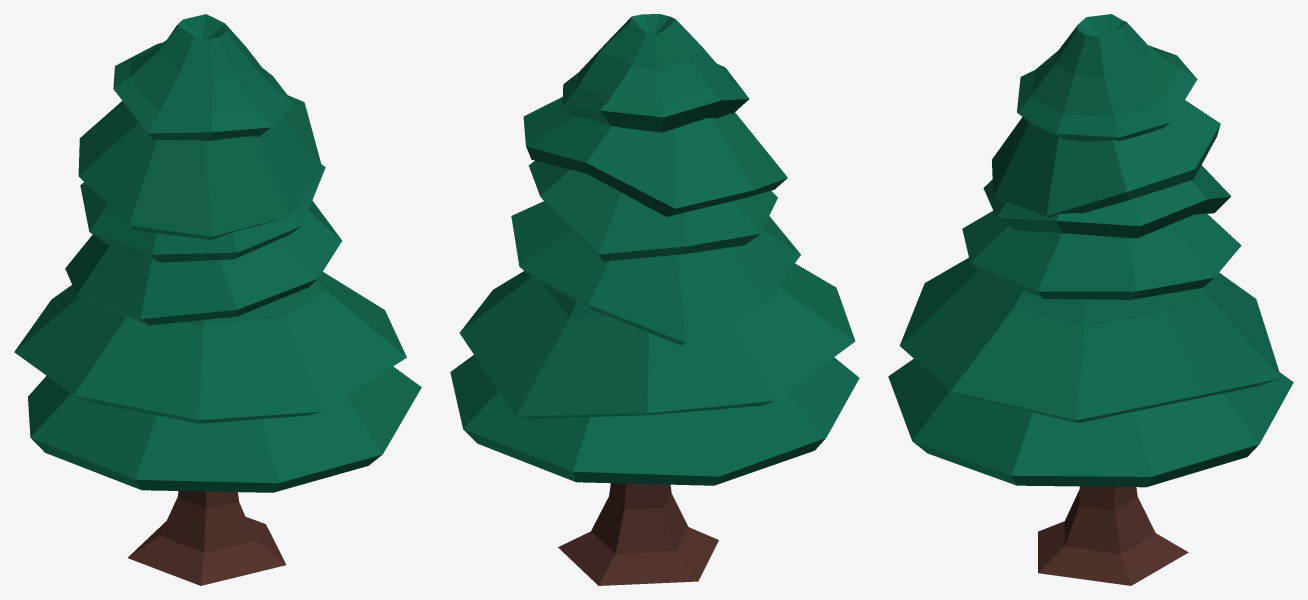
The model's file is tree_test.fbx.
The picture shows the model from 3 angles, left to right: view 1: azimuth 30°, elevation 25°; view 2: azimuth 150°, elevation 25°; view 3: azimuth 270°, elevation 25°; orthographic projection. The views are drawn at different scales.
Parts seen in each view (by area): view 1: Tree_Bottom1; view 2: Tree_Bottom1; view 3: Tree_Bottom1.
Part boxes in pixels (x1,y1,x2,y2): Tree_Bottom1: (14,14,421,585); Tree_Bottom1: (450,14,859,585); Tree_Bottom1: (888,14,1293,585).
Bounding box in the file's own units: 237 × 346 × 242.
